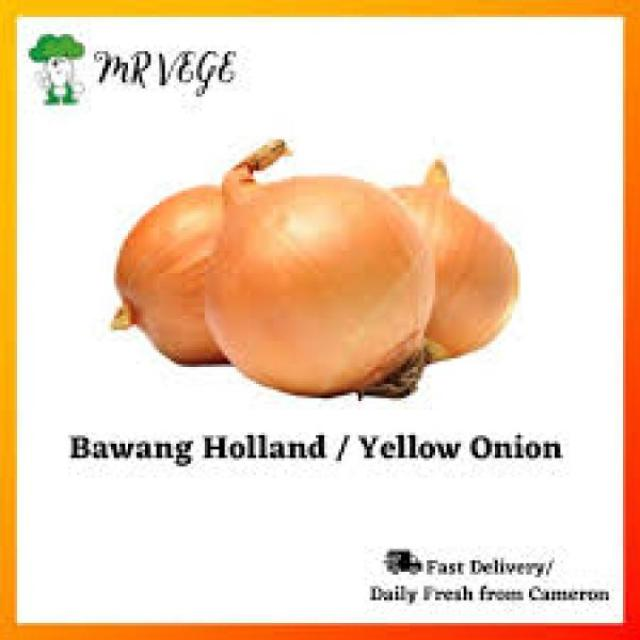Onion: (218, 166, 429, 409), (389, 176, 532, 370), (126, 189, 238, 372)
